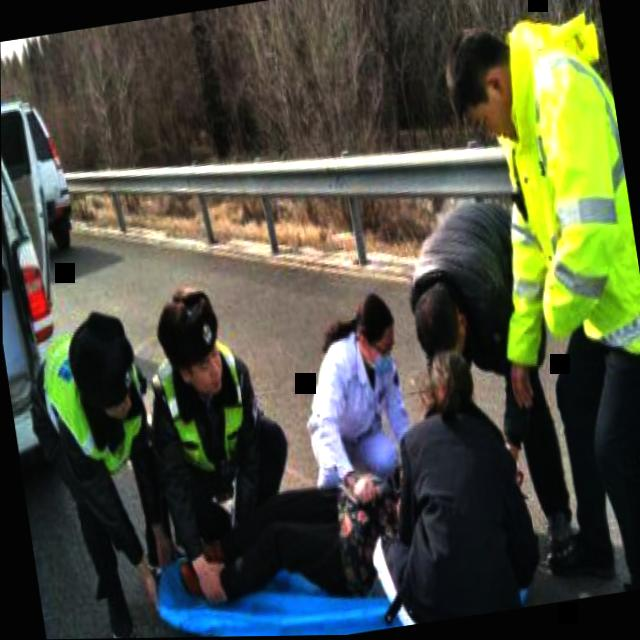Fall-Detected: (162, 447, 442, 635)
